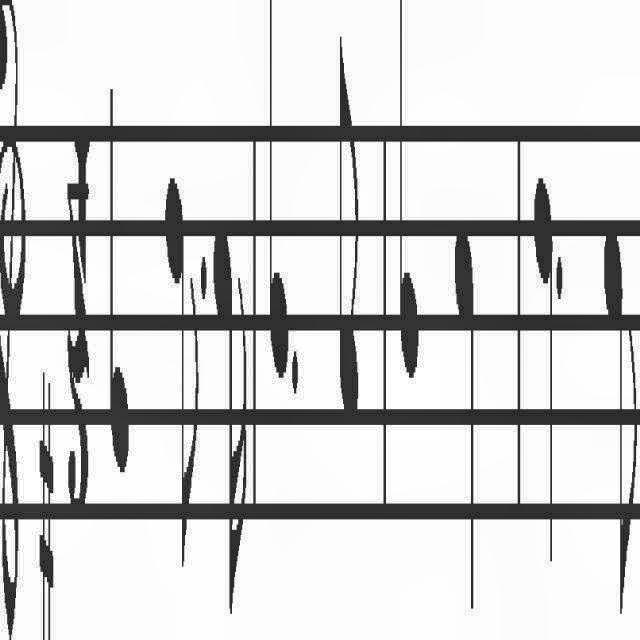Bass-clef: (0, 0, 26, 640)
Diez: (35, 351, 58, 640)
Eighth-note: (156, 153, 200, 571), (603, 204, 639, 638), (332, 17, 364, 455)
Quarter-note: (443, 205, 485, 640), (524, 147, 554, 599), (104, 64, 134, 488), (264, 1, 290, 383), (396, 1, 422, 383)
Sixteenth-note: (212, 200, 248, 640)
